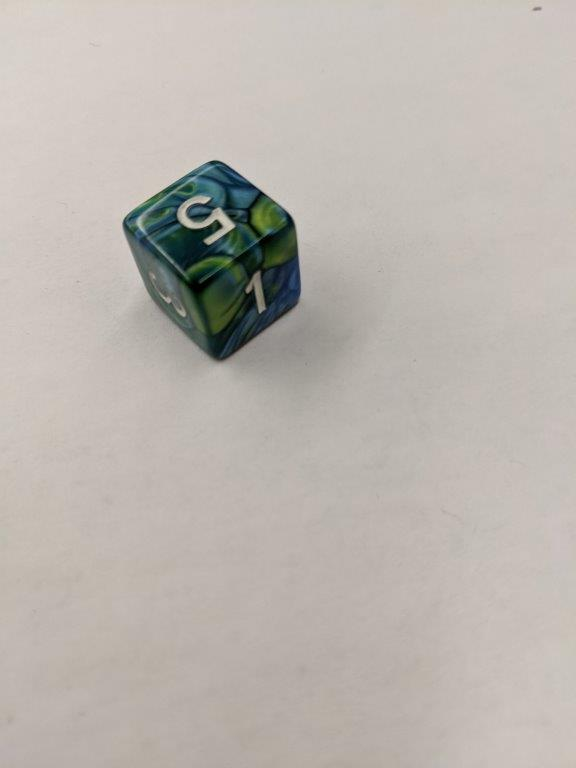d6-5: (120, 161, 302, 360)
